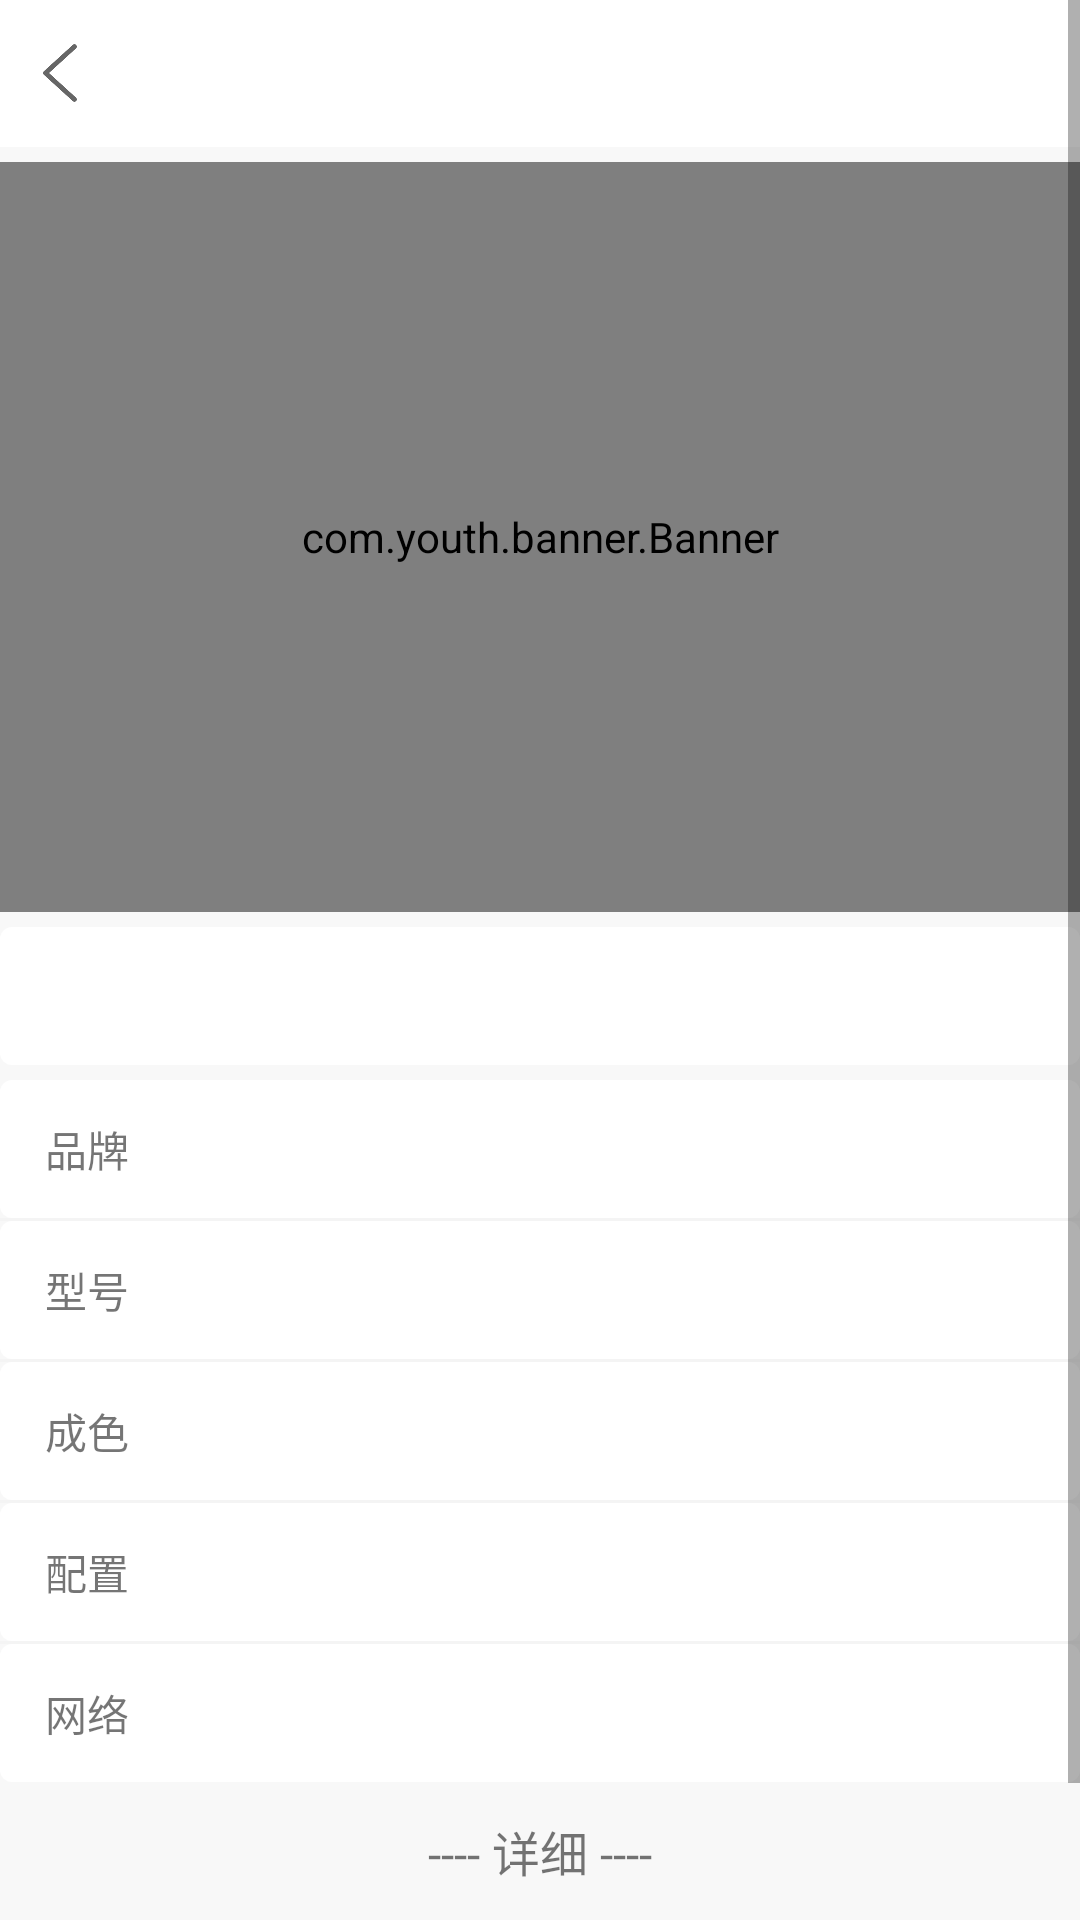

Named icons in this screenshot (1080 × 1920) and their bounding boxes, BBox(x1, y1, x2, y2):
back: BBox(43, 44, 77, 102)
